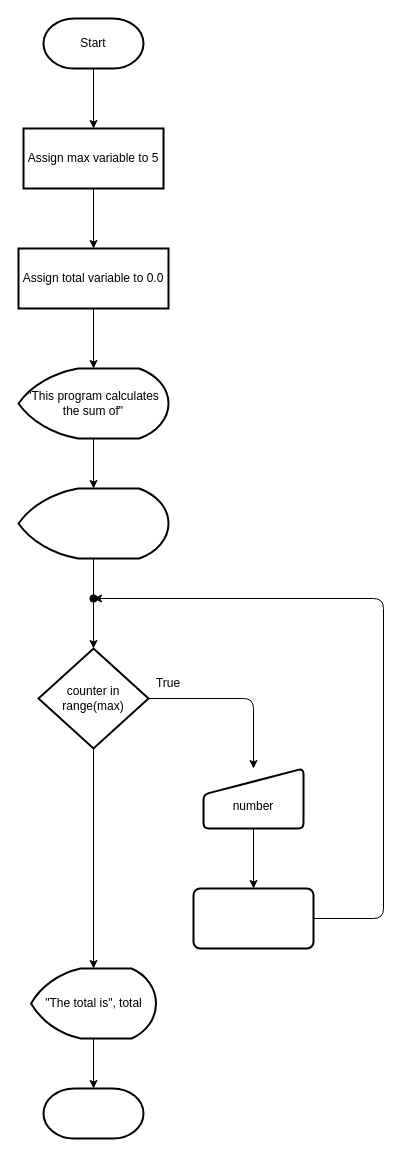
This 409x1156 diagram has some shape labels left out. The shapes that lost their labels are listed below. From the top down, each one's box as (x1, y1, x2, y2) in pixels, then its label:
(17, 487, 169, 559): max, "numbers you will enter."
(192, 887, 314, 949): total += number
(42, 1087, 144, 1139): End
